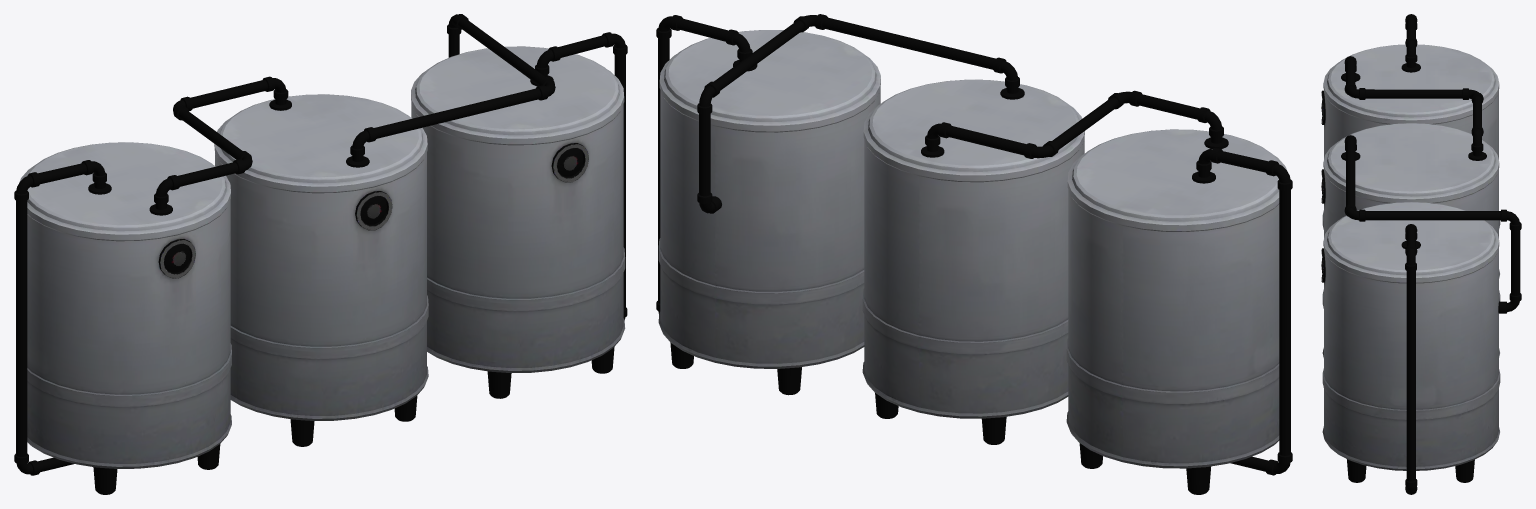
3 renders of one model, left to right at view 1: azimuth 30°, elevation 25°; view 2: azimuth 150°, elevation 25°; view 3: azimuth 270°, elevation 25°, orthographic. The views are drawn at different scales.
Parts seen in each view (by area): view 1: body0_model0_lod0_mesh0; view 2: body0_model0_lod0_mesh0; view 3: body0_model0_lod0_mesh0.
Part boxes in pixels (bbox=[...]): body0_model0_lod0_mesh0: bbox=[14, 14, 627, 494]; body0_model0_lod0_mesh0: bbox=[656, 14, 1292, 494]; body0_model0_lod0_mesh0: bbox=[1321, 14, 1521, 494].
Size of the model in its own units: 300 by 142 by 103.
1 material, 1 textured.
